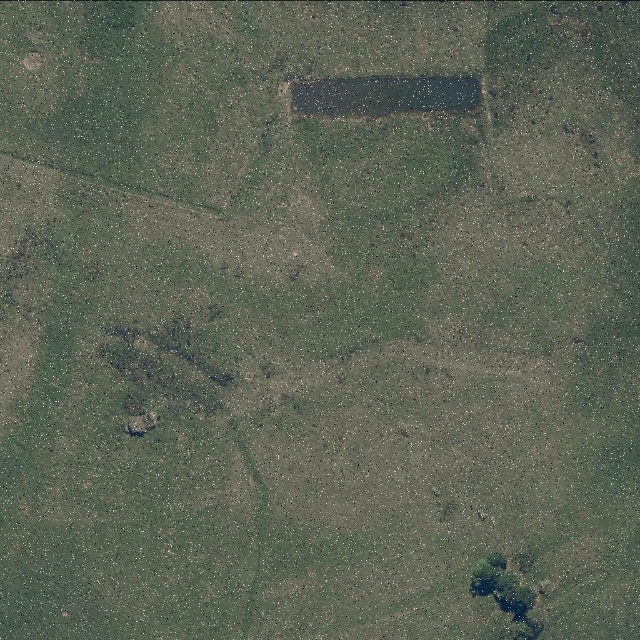vegetation: (470, 553, 546, 638)
